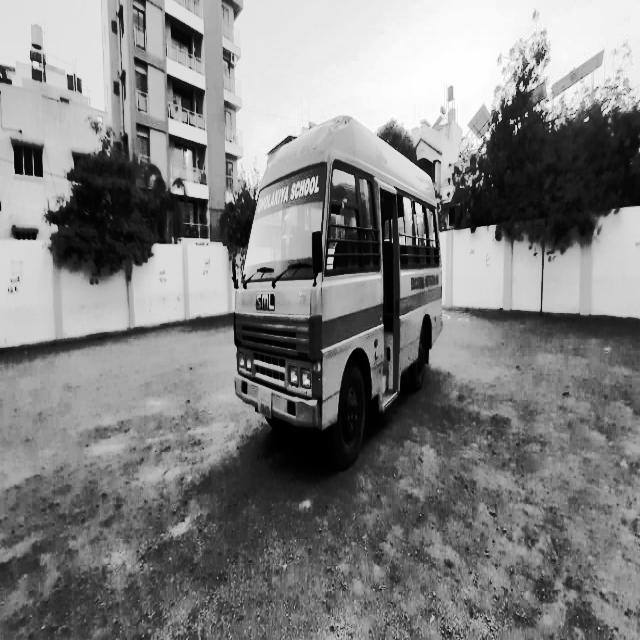Bus: (229, 108, 462, 480)
